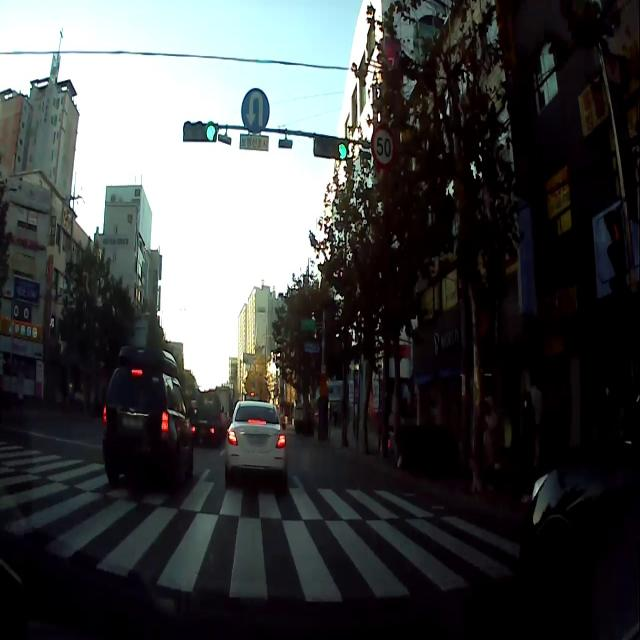Green Light: (205, 120, 217, 141), (336, 140, 348, 161)
